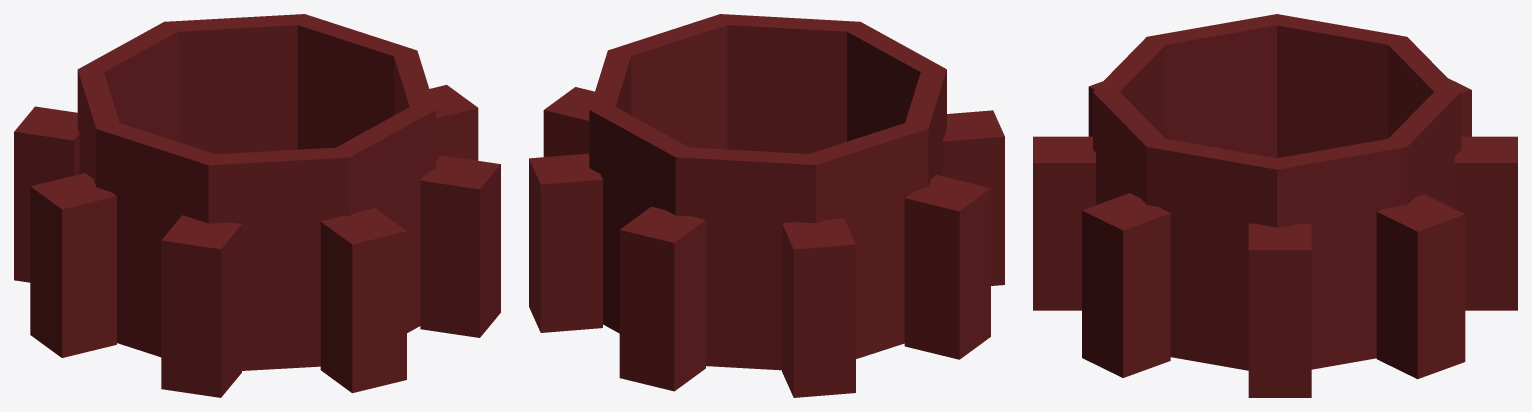
Rendered from LevelWallsupdated.fbx.
The picture shows the model from 3 angles, left to right: view 1: azimuth 30°, elevation 25°; view 2: azimuth 150°, elevation 25°; view 3: azimuth 270°, elevation 25°; orthographic projection.
Parts seen in each view (by area): view 1: Cylinder.004, Cylinder.008, Cylinder.005, Cube, Cube.005, Cube.001, Cube.006, Cylinder.001, Cylinder.003, Cylinder.007, Cube.002, Cylinder.006 (+2 smaller); view 2: Cylinder.007, Cylinder.003, Cylinder.006, Cube.003, Cube.005, Cube.002, Cube.007, Cylinder.002, Cylinder.008, Cylinder.004, Cube.006, Cube.004 (+2 smaller); view 3: Cylinder.002, Cylinder.001, Cube.007, Cube.001, Cylinder.006, Cylinder.005, Cube.004, Cube.003, Cube, Cylinder.003, Cylinder.008, Cylinder.007 (+2 smaller).
Boxes of the visible parts, x1,y1,x2,y2 form: Cylinder.004: [208, 147, 349, 370]; Cylinder.008: [164, 14, 304, 154]; Cylinder.005: [96, 123, 215, 357]; Cube: [320, 208, 406, 393]; Cube.005: [30, 173, 116, 357]; Cube.001: [420, 155, 500, 337]; Cube.006: [161, 215, 241, 397]; Cylinder.001: [297, 14, 416, 149]; Cylinder.003: [336, 107, 435, 332]; Cylinder.007: [78, 22, 177, 141]; Cube.002: [14, 106, 79, 282]; Cylinder.006: [77, 69, 119, 186]; Cylinder.007: [675, 147, 815, 370]; Cylinder.003: [720, 14, 860, 153]; Cylinder.006: [809, 123, 928, 358]; Cube.003: [619, 206, 705, 391]; Cube.005: [904, 175, 990, 359]; Cube.002: [782, 218, 855, 397]; Cube.007: [529, 153, 602, 332]; Cylinder.002: [608, 14, 727, 149]; Cylinder.008: [589, 107, 688, 333]; Cylinder.004: [847, 22, 946, 141]; Cube.006: [942, 110, 1004, 285]; Cube.004: [543, 87, 594, 156]; Cylinder.002: [1146, 139, 1276, 370]; Cylinder.001: [1277, 139, 1407, 369]; Cube.007: [1376, 194, 1465, 379]; Cube.001: [1082, 193, 1170, 377]; Cylinder.006: [1277, 14, 1406, 158]; Cylinder.005: [1147, 14, 1276, 158]; Cube.004: [1248, 223, 1311, 397]; Cube.003: [1455, 136, 1517, 310]; Cube: [1033, 136, 1095, 310]; Cylinder.003: [1093, 92, 1165, 204]; Cylinder.008: [1388, 92, 1461, 208]; Cylinder.007: [1388, 37, 1460, 138].
Size of the model in its own units: 1519 by 723 by 1542.
